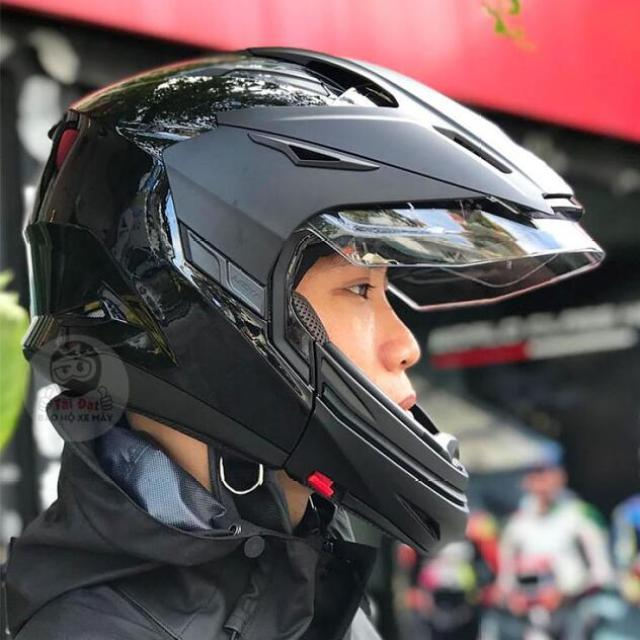Helmet: (19, 43, 608, 556)
